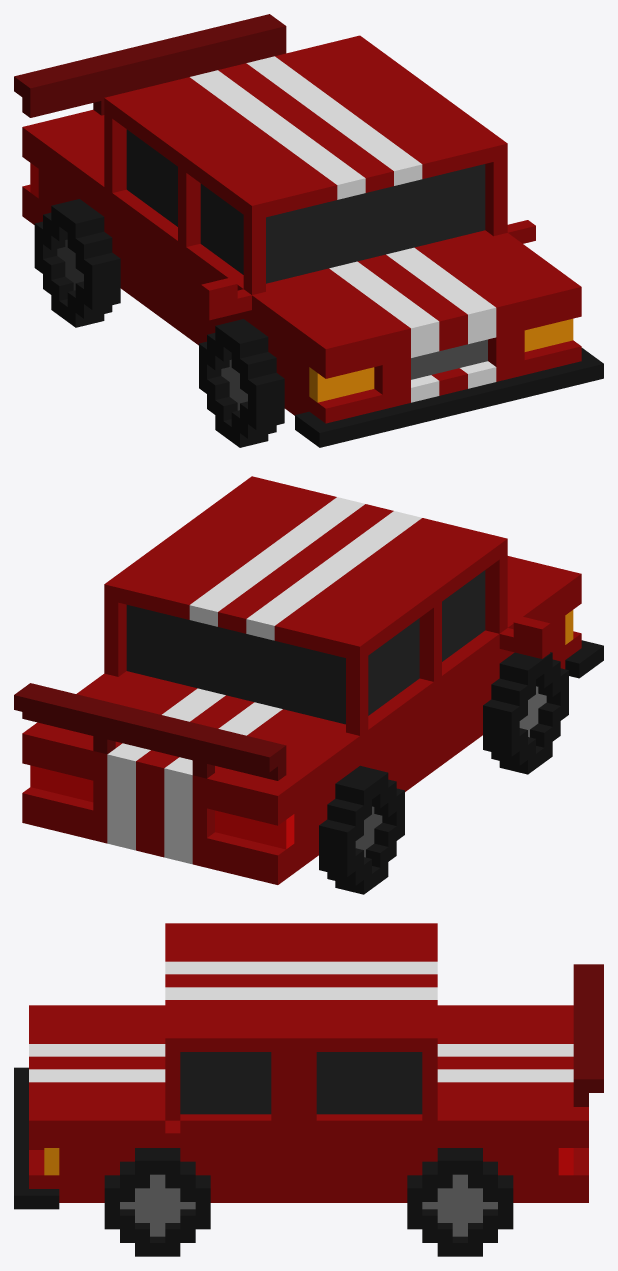
File: redcarassets.vox.obj
3 views of the same model, one above another, from view 1: azimuth 30°, elevation 25°; view 2: azimuth 150°, elevation 25°; view 3: azimuth 270°, elevation 25° (orthographic). The views are drawn at different scales.
Bounding box in the file's own units: 2.3 × 1.5 × 3.9.
Materials: 1 (1 with a texture image).
